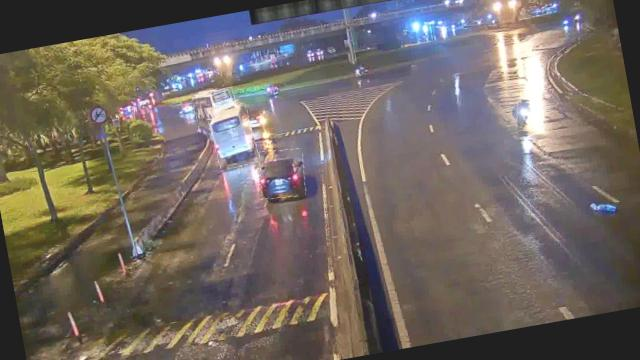Bike: (512, 98, 534, 132)
Bus: (207, 102, 259, 170), (192, 87, 238, 121)
Car: (256, 146, 309, 202)
